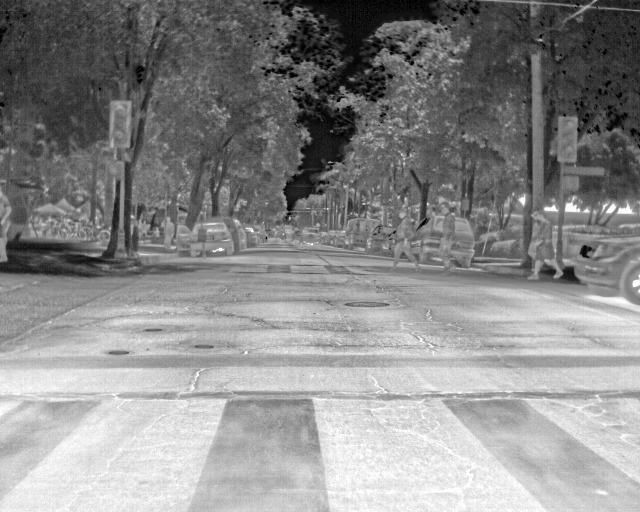bicycle: (573, 236, 637, 307), (412, 214, 442, 259), (342, 218, 379, 251), (205, 220, 233, 259), (457, 217, 476, 268), (175, 220, 199, 257), (365, 224, 389, 254), (232, 219, 250, 253), (298, 225, 322, 245), (325, 229, 346, 246), (252, 224, 270, 243)
empty: (525, 206, 564, 282), (389, 205, 422, 270), (438, 205, 460, 270), (0, 189, 14, 263), (158, 214, 175, 249)
